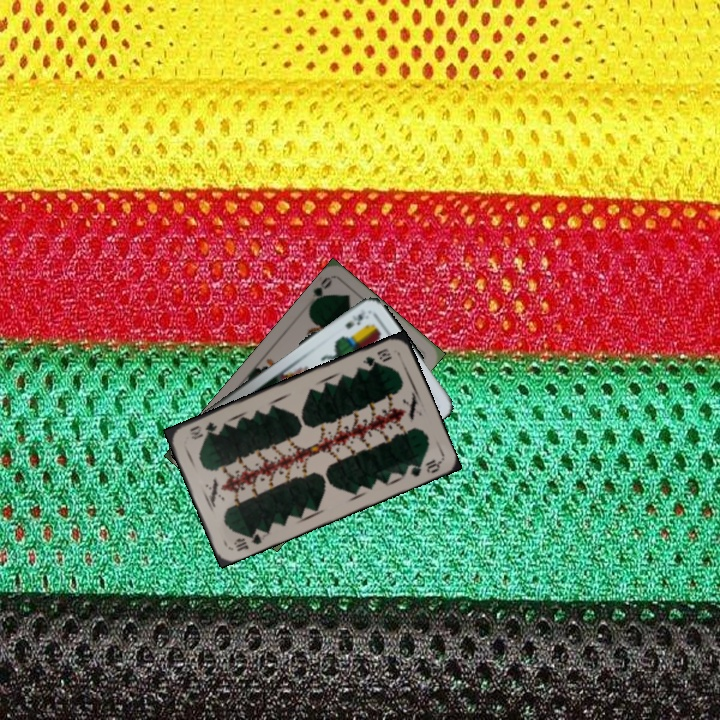EK: (341, 308, 366, 332)
G10: (230, 525, 268, 554), (359, 344, 394, 369)
GO: (305, 273, 335, 311)
